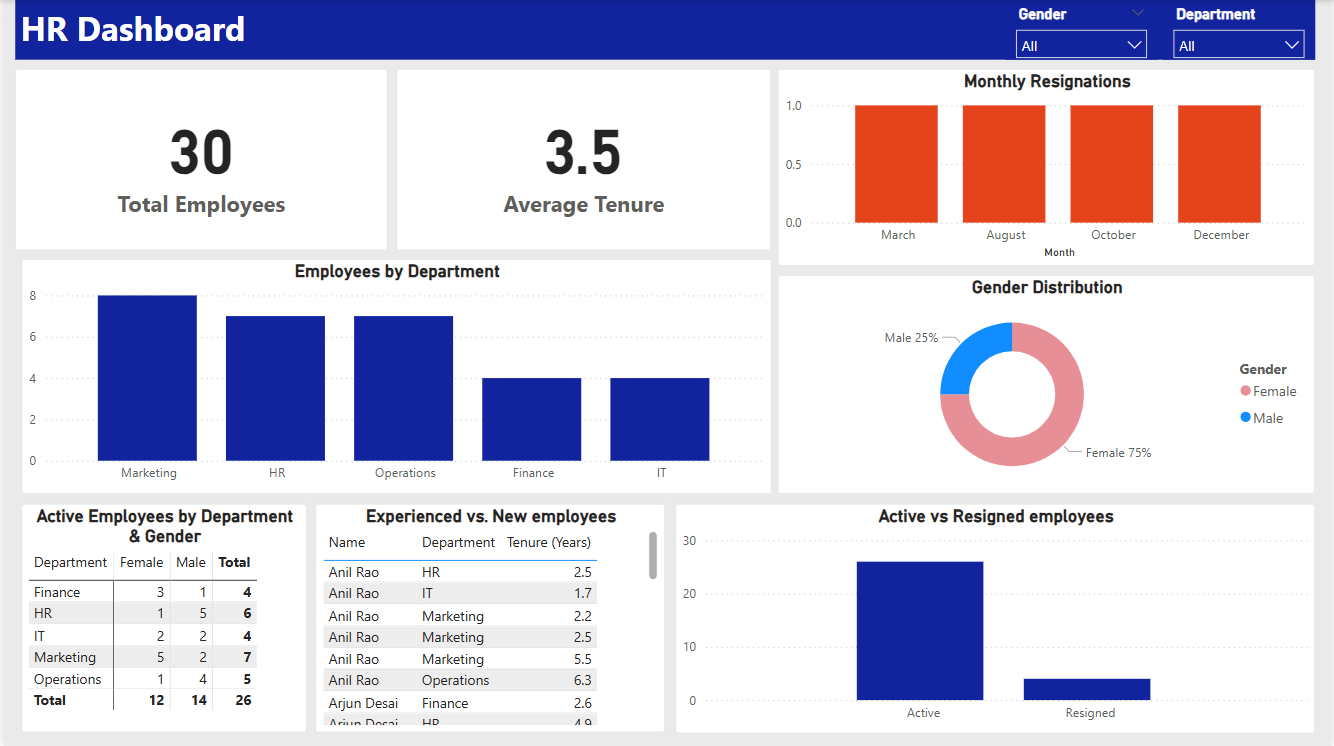

The page's visual inventory and layout, read from the dashboard file:
{"tool":"powerbi","page":{"name":"Page 1","canvas":[1280,720],"ordinal":0},"visuals":[{"type":"card","fields":{"Values":["CountNonNull(EmployeeData.Employee ID)"]},"box":[10.9,66.4,359.5,174.9],"z":0},{"type":"card","fields":{"Values":["Avg(EmployeeData.Tenure (Years))"]},"box":[378.8,66.4,361.9,174.9],"z":1000},{"type":"textbox","box":[10.9,0,1254.7,57.9],"z":2000},{"type":"slicer","fields":{"Values":["EmployeeData.Department"]},"box":[1118.4,0,147.2,57.9],"z":3000},{"type":"slicer","fields":{"Values":["EmployeeData.Gender"]},"box":[966.4,0,147.2,57.9],"z":5000},{"type":"clusteredColumnChart","title":"Employees by Department","fields":{"Category":["EmployeeData.Department"],"Y":["CountNonNull(EmployeeData.Employee ID)"]},"box":[16.9,249.7,723.9,226.8],"z":6000},{"type":"clusteredColumnChart","title":"Active vs Resigned employees","fields":{"Y":["CountNonNull(EmployeeData.Employee ID)"],"Category":["EmployeeData.Status"]},"box":[647.9,486.2,617.7,222],"z":7000},{"type":"donutChart","title":"Gender Distribution","fields":{"Y":["CountNonNull(EmployeeData.Employee ID)"],"Category":["EmployeeData.Gender"]},"box":[746.8,265.4,518.8,211.1],"z":8000},{"type":"tableEx","title":"Experienced vs. New employees","fields":{"Values":["EmployeeData.Name","EmployeeData.Department","EmployeeData.Tenure (Years)"]},"box":[300.4,486.2,337.8,220.8],"z":9000},{"type":"pivotTable","title":"Active Employees by Department & Gender","fields":{"Rows":["EmployeeData.Department"],"Columns":["EmployeeData.Gender"],"Values":["CountNonNull(EmployeeData.Employee ID)"]},"box":[16.9,486.2,275.1,220.8],"z":10000},{"type":"clusteredColumnChart","title":"Monthly Resignations","fields":{"Y":["CountNonNull(EmployeeData.Employee ID)"],"Category":["EmployeeData.Exit Date.Variation.Date Hierarchy.Month"]},"box":[746.8,66.4,518.8,190.6],"z":11000}]}

Visuals, with their boxes in screenshot pixels (x1, y1, x2, y2), scaled from the page's 1280x720 canvas onto the 1334x746 screenshot:
card - CountNonNull(EmployeeData.Employee ID): x1=11, y1=69, x2=386, y2=250
card - Avg(EmployeeData.Tenure (Years)): x1=395, y1=69, x2=772, y2=250
textbox: x1=11, y1=0, x2=1319, y2=60
slicer - EmployeeData.Department: x1=1166, y1=0, x2=1319, y2=60
slicer - EmployeeData.Gender: x1=1007, y1=0, x2=1161, y2=60
"Employees by Department" clusteredColumnChart: x1=18, y1=259, x2=772, y2=494
"Active vs Resigned employees" clusteredColumnChart: x1=675, y1=504, x2=1319, y2=734
"Gender Distribution" donutChart: x1=778, y1=275, x2=1319, y2=494
"Experienced vs. New employees" tableEx: x1=313, y1=504, x2=665, y2=733
"Active Employees by Department & Gender" pivotTable: x1=18, y1=504, x2=304, y2=733
"Monthly Resignations" clusteredColumnChart: x1=778, y1=69, x2=1319, y2=266
